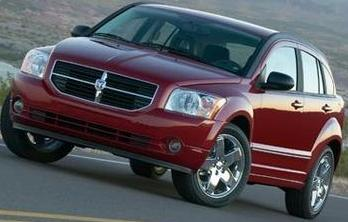front_view: (14, 40, 230, 174)
headlight: (164, 82, 226, 131)
side_glass: (259, 41, 329, 101)
